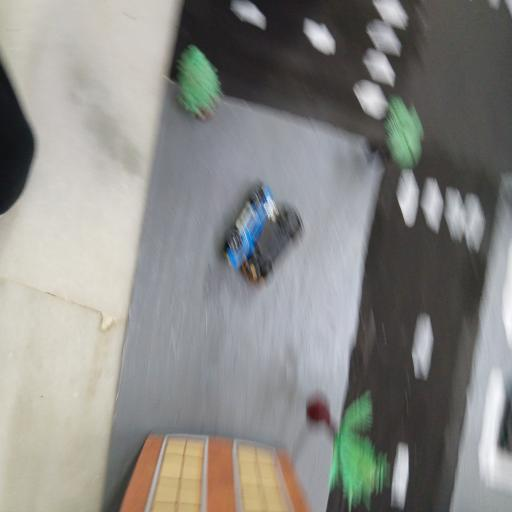car crash: (221, 175, 309, 290)
